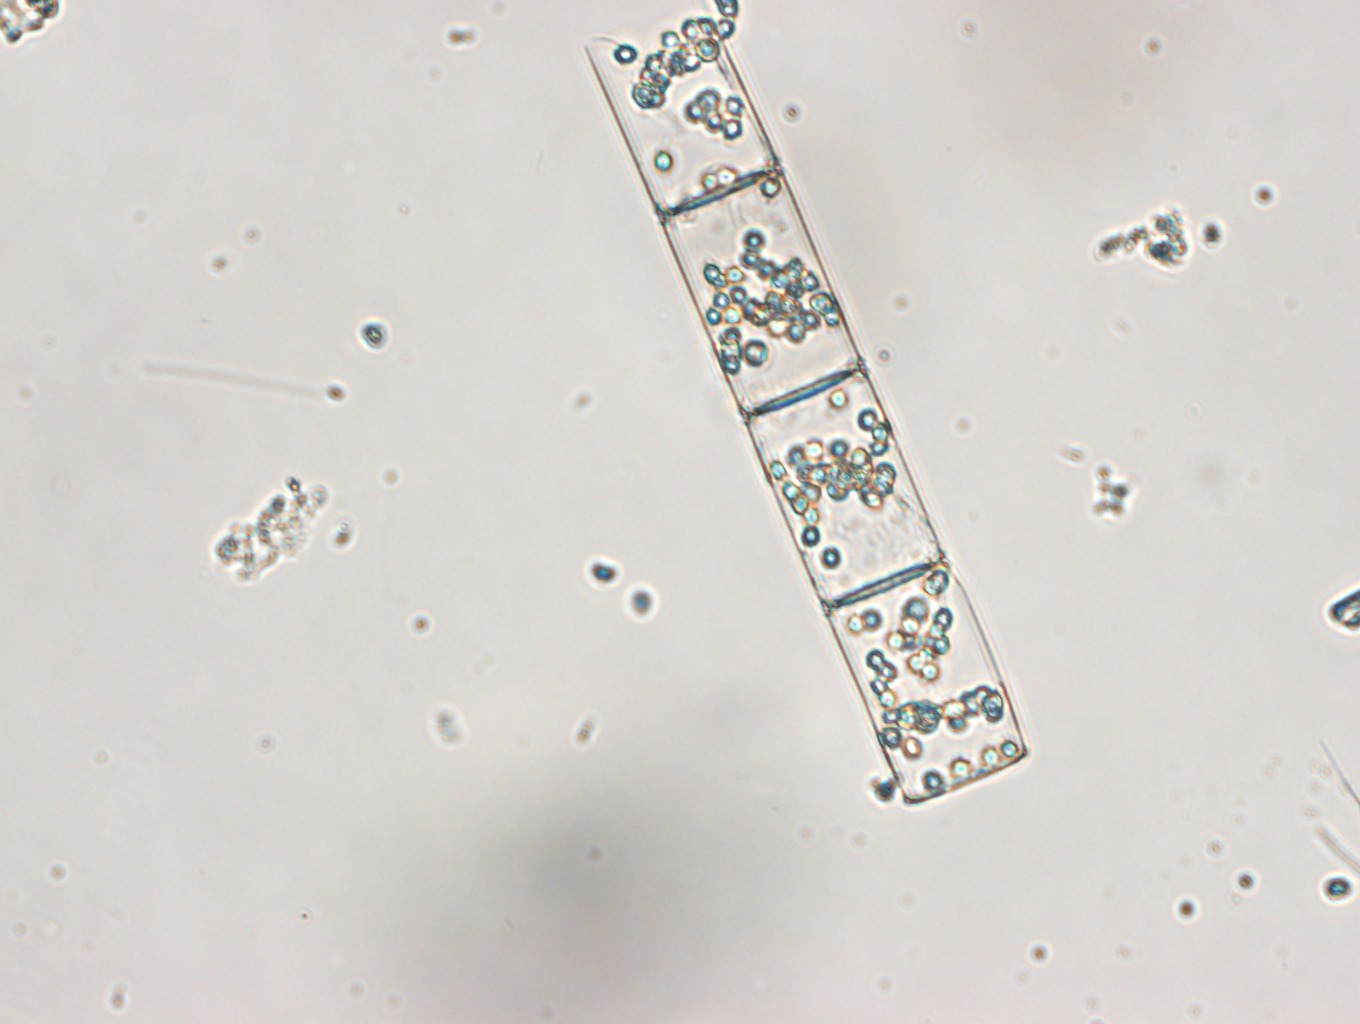guinardia flaccida: (583, 1, 1032, 808)
